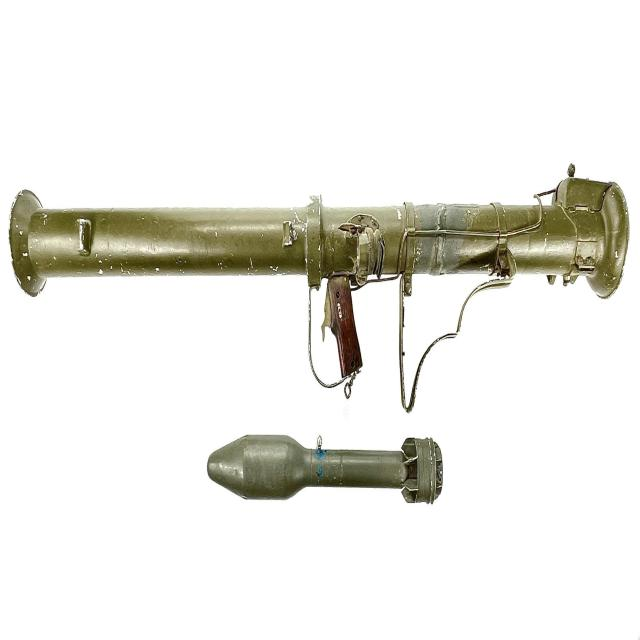weapon: (10, 161, 631, 403)
